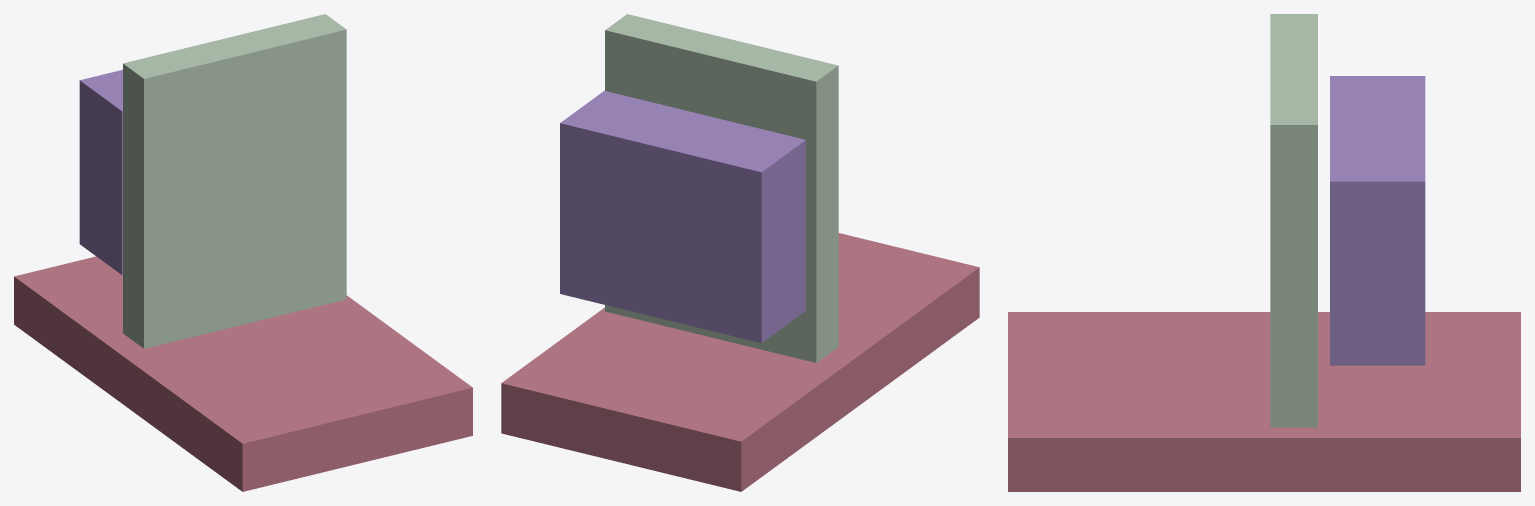
The picture shows the model from 3 angles, left to right: view 1: azimuth 30°, elevation 25°; view 2: azimuth 150°, elevation 25°; view 3: azimuth 270°, elevation 25°; orthographic projection. The views are drawn at different scales.
Parts seen in each view (by area): view 1: world; view 2: world; view 3: world.
Part boxes in pixels (x1,y1,x2,y2): world: [14, 14, 472, 491]; world: [501, 14, 979, 491]; world: [1008, 14, 1520, 491].
Bounding box in the file's own units: 2.5 × 3.35 × 4.3.
